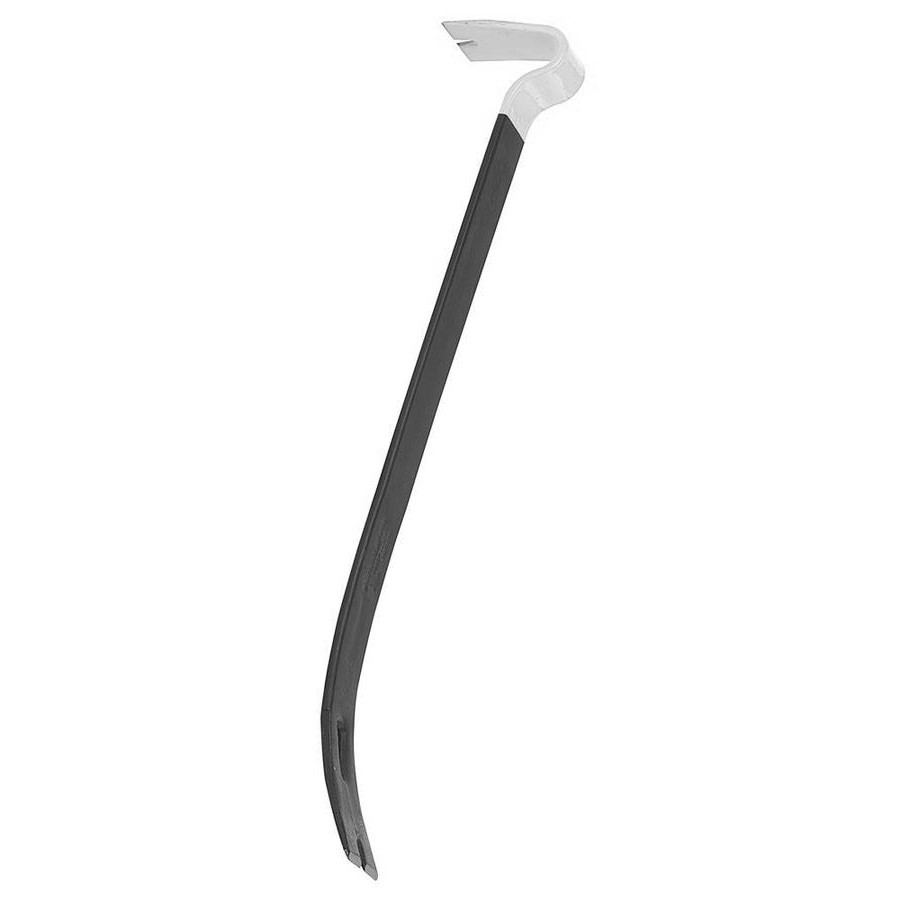crowbar: (266, 8, 586, 893)
